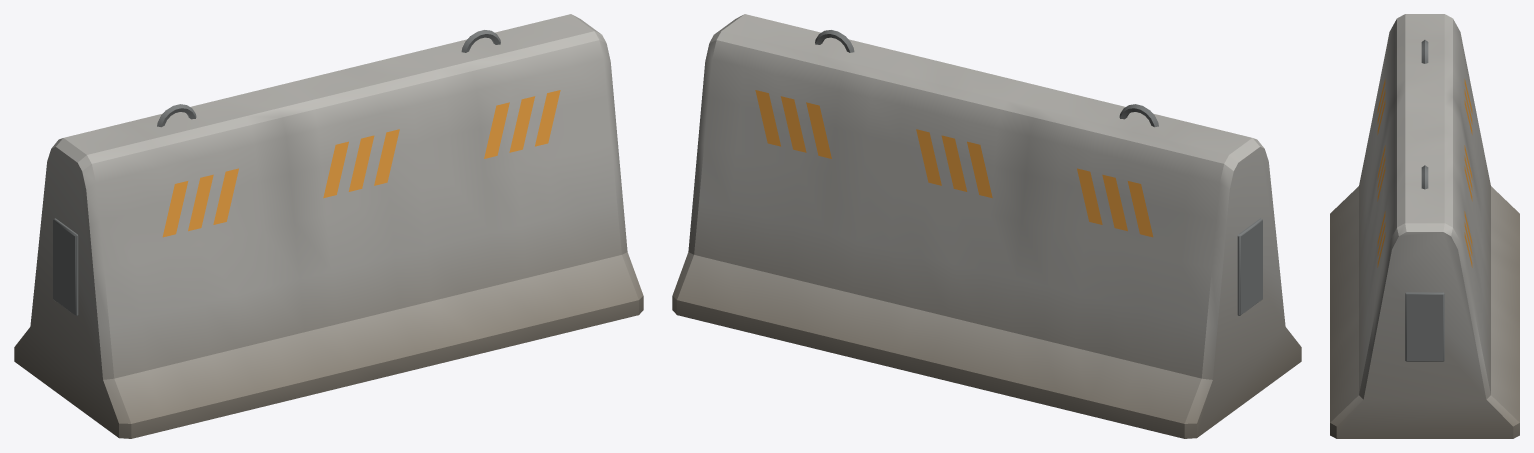
File: barricade.glb
The picture shows the model from 3 angles, left to right: view 1: azimuth 30°, elevation 25°; view 2: azimuth 150°, elevation 25°; view 3: azimuth 270°, elevation 25°; orthographic projection. The views are drawn at different scales.
Visible parts, largest first — view 1: Barrier casting, Hazard chevrons, Lifting loops and pins; view 2: Barrier casting, Hazard chevrons, Lifting loops and pins; view 3: Barrier casting, Lifting loops and pins, Hazard chevrons.
Part boxes in pixels (x1,y1,x2,y2): Barrier casting: (14,14,643,438); Hazard chevrons: (162,90,560,237); Lifting loops and pins: (53,30,500,315); Barrier casting: (672,14,1301,438); Hazard chevrons: (755,90,1153,237); Lifting loops and pins: (815,30,1262,315); Barrier casting: (1330,14,1519,438); Lifting loops and pins: (1405,40,1444,361); Hazard chevrons: (1377,79,1472,267).
Size of the model in its own units: 3.13 by 1.51 by 1.15.
